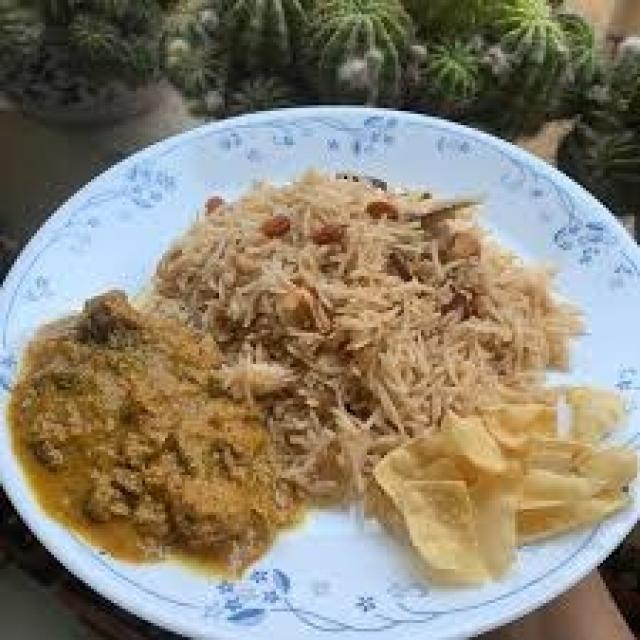nei satham: (158, 147, 550, 393)
